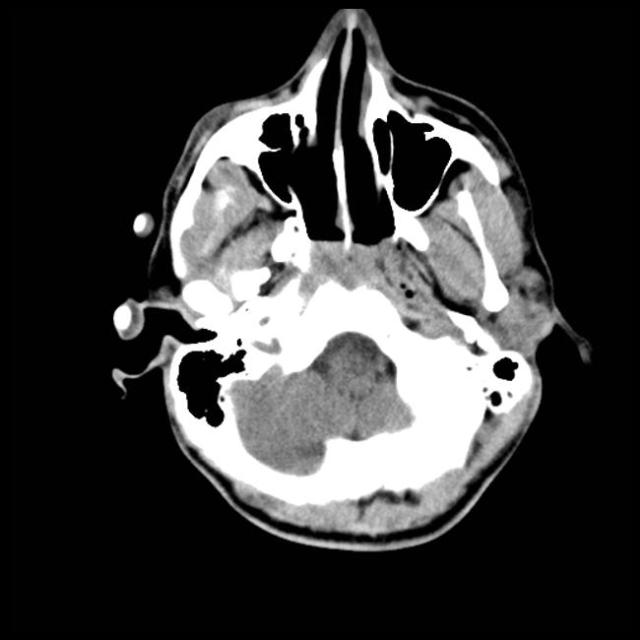lesion: (107, 8, 594, 553)
